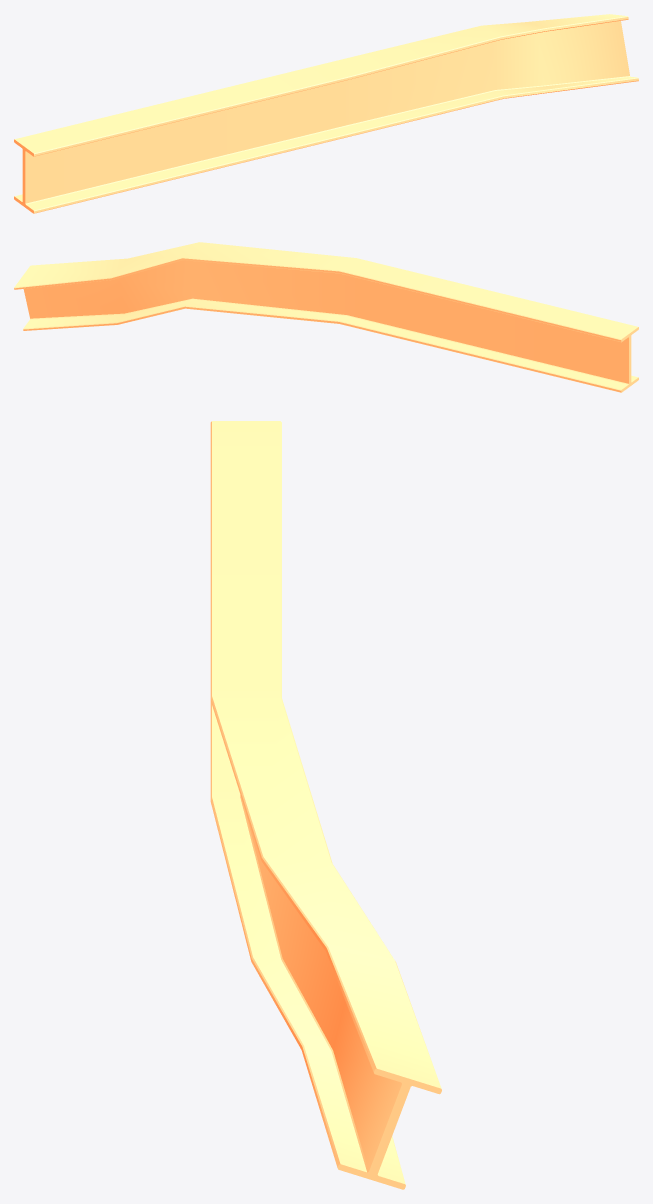
The model's file is SM_GridBend.fbx.
The picture shows the model from 3 angles, top to bottom: view 1: azimuth 30°, elevation 25°; view 2: azimuth 150°, elevation 25°; view 3: azimuth 270°, elevation 25°; orthographic projection. The views are drawn at different scales.
Parts seen in each view (by area): view 1: SM_GridBend_LOD0; view 2: SM_GridBend_LOD0; view 3: SM_GridBend_LOD0.
Boxes of the visible parts, x1,y1,x2,y2 form: SM_GridBend_LOD0: (14,14,638,213); SM_GridBend_LOD0: (14,242,638,392); SM_GridBend_LOD0: (210,421,441,1189).
Size of the model in its own units: 258 by 45.57 by 46.76.
